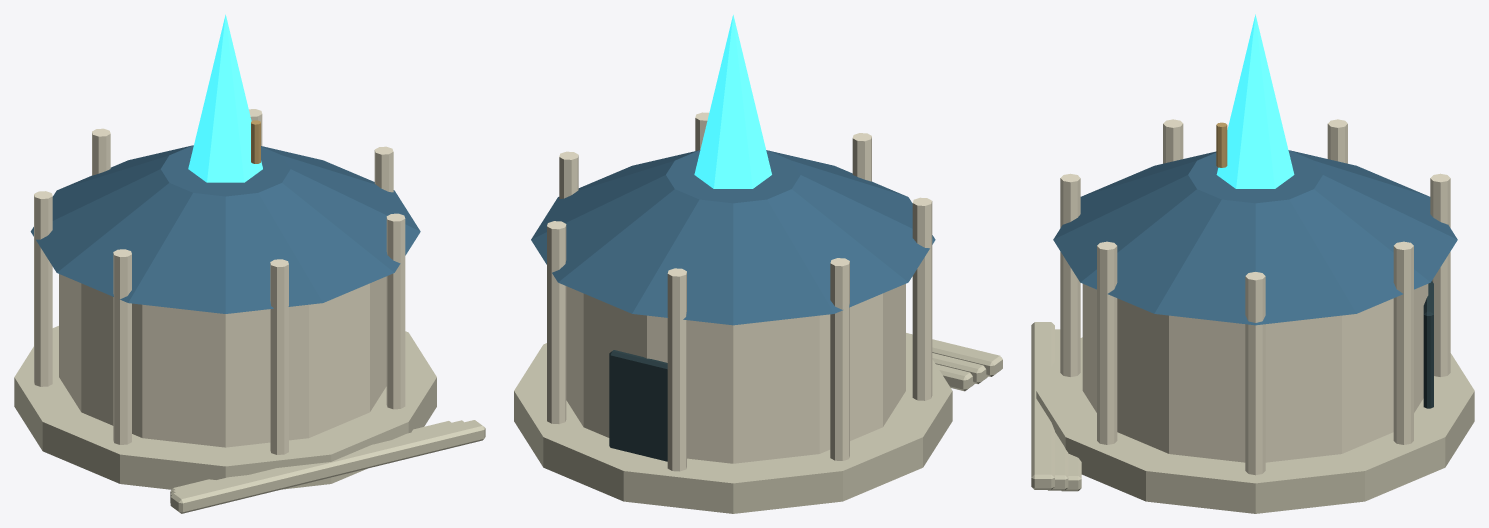
File: level_24.glb
3 renders of one model, left to right at view 1: azimuth 30°, elevation 25°; view 2: azimuth 150°, elevation 25°; view 3: azimuth 270°, elevation 25°, orthographic. The views are drawn at different scales.
Visible parts, largest first — view 1: mage_guild — level 24; view 2: mage_guild — level 24; view 3: mage_guild — level 24.
Boxes of the visible parts, x1,y1,x2,y2 form: mage_guild — level 24: (14, 14, 485, 513); mage_guild — level 24: (514, 15, 1002, 513); mage_guild — level 24: (1031, 14, 1474, 513).
Size of the model in its own units: 5.2 by 5.33 by 5.26.
